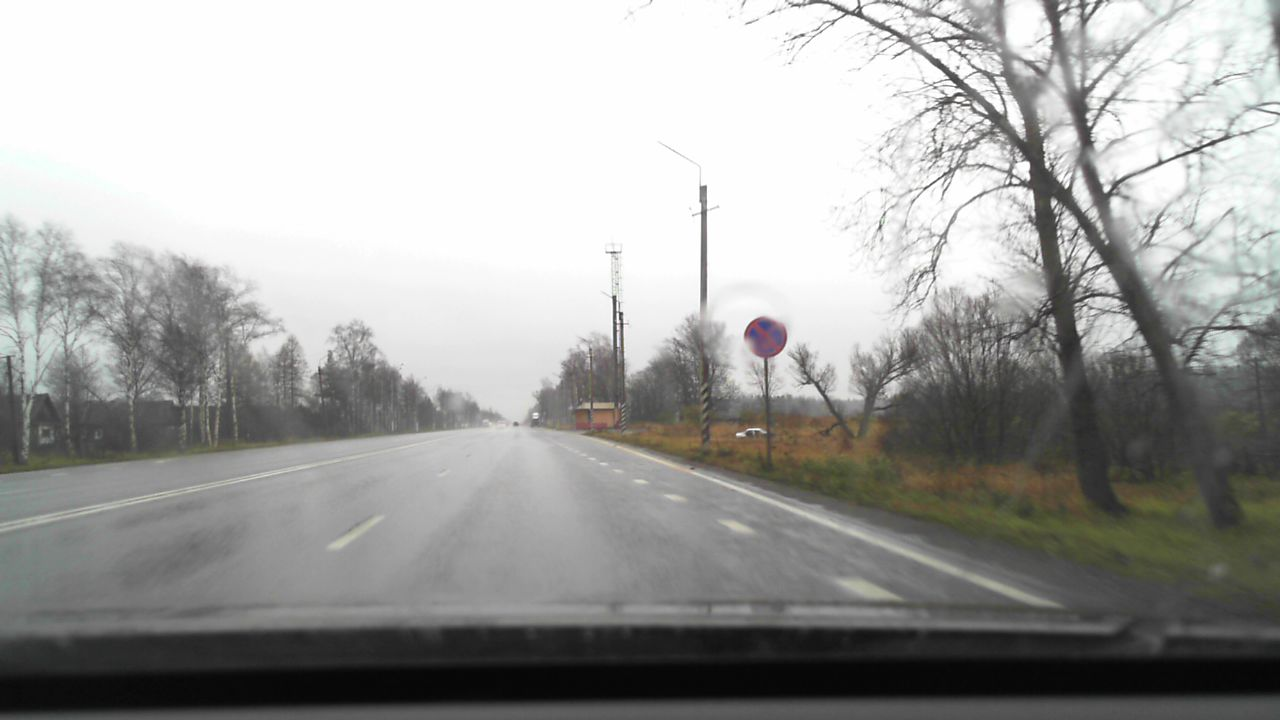No Parking: (744, 317, 787, 358)
